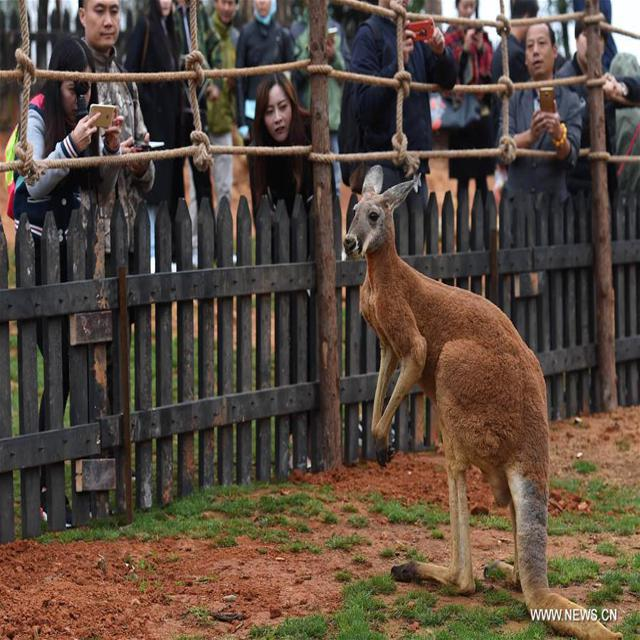kangaroo: (338, 162, 555, 587)
